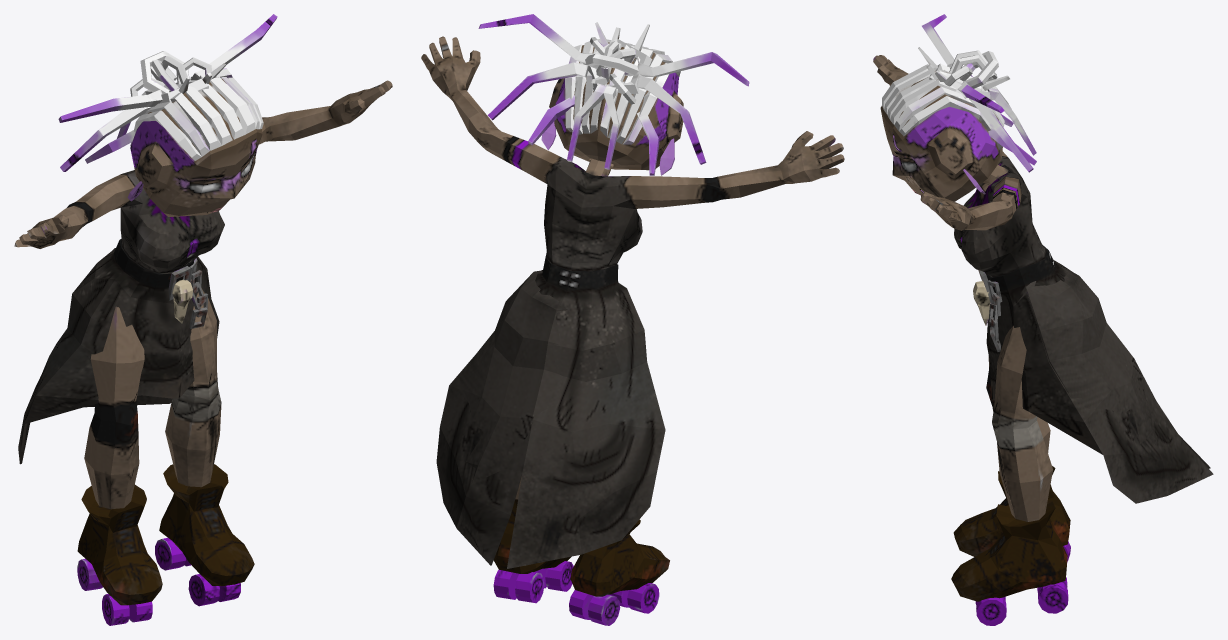
Rendered from bruja_000124.obj.
3 renders of one model, left to right at view 1: azimuth 30°, elevation 25°; view 2: azimuth 150°, elevation 25°; view 3: azimuth 270°, elevation 25°, orthographic. The views are drawn at different scales.
Visible parts, largest first — view 1: Bruja_Plane.001; view 2: Bruja_Plane.001; view 3: Bruja_Plane.001.
Part boxes in pixels (x1,y1,x2,y2): Bruja_Plane.001: [14, 14, 392, 625]; Bruja_Plane.001: [421, 14, 844, 625]; Bruja_Plane.001: [873, 14, 1213, 625].
Bounding box in the file's own units: 11.84 × 16.2 × 9.15.
